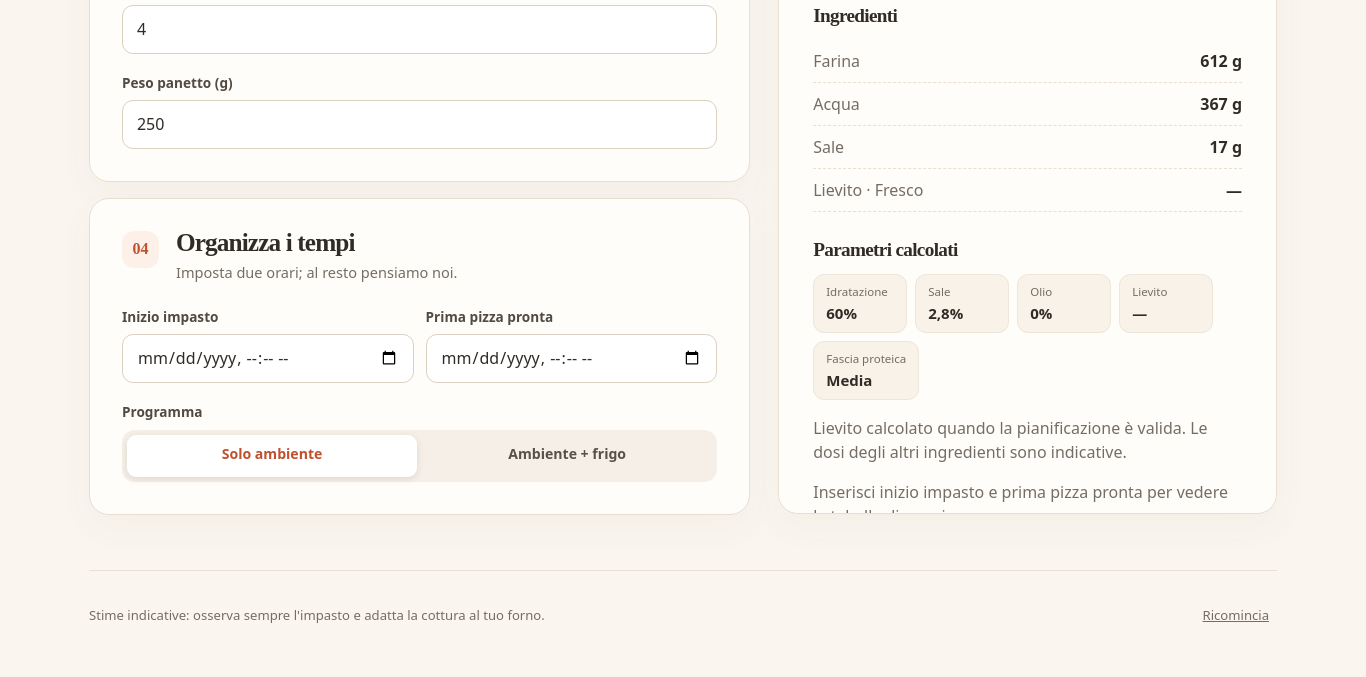
Test case: pizza calculator › shows a timeline only after both dates are entered
(page scrolled)
In the field labelled "Inizio impasto": (268, 358) [122, 334, 414, 383], type "2026-06-15T09:00"
(page scrolled)
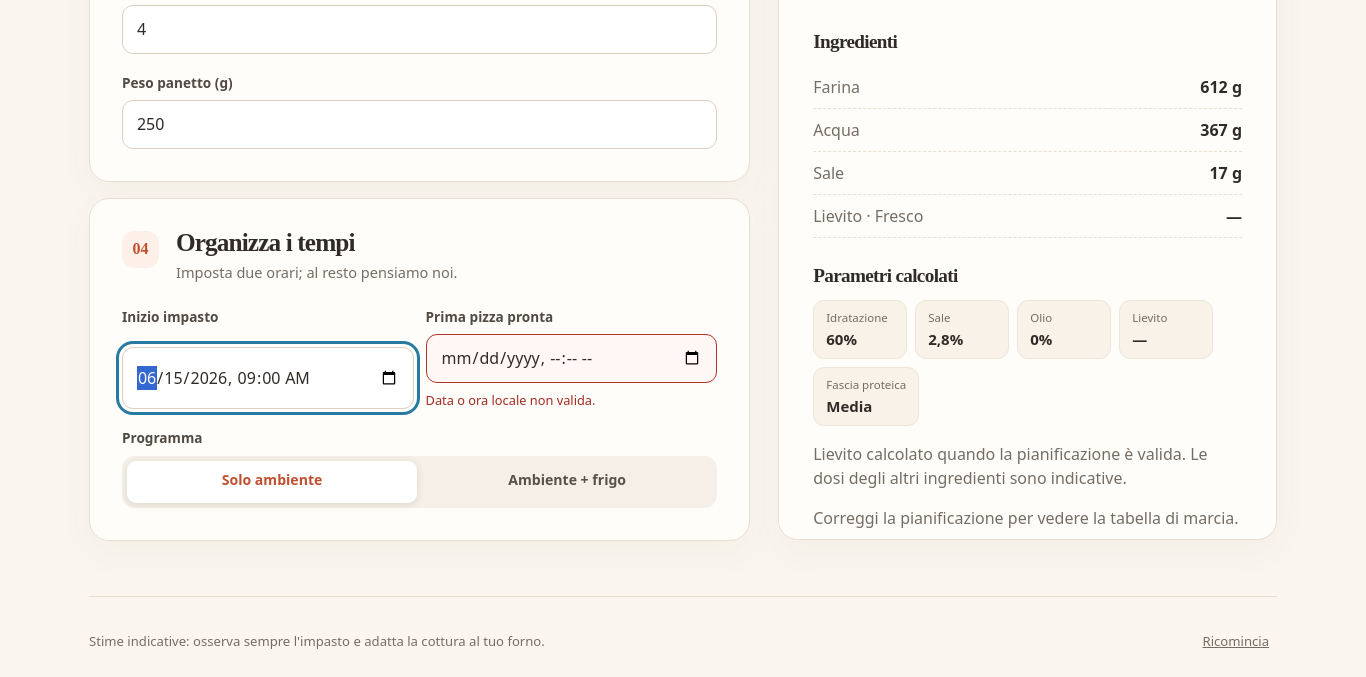
In the field labelled "Prima pizza pronta": (571, 358) [426, 334, 717, 383], type "2026-06-15T19:00"
(page scrolled)
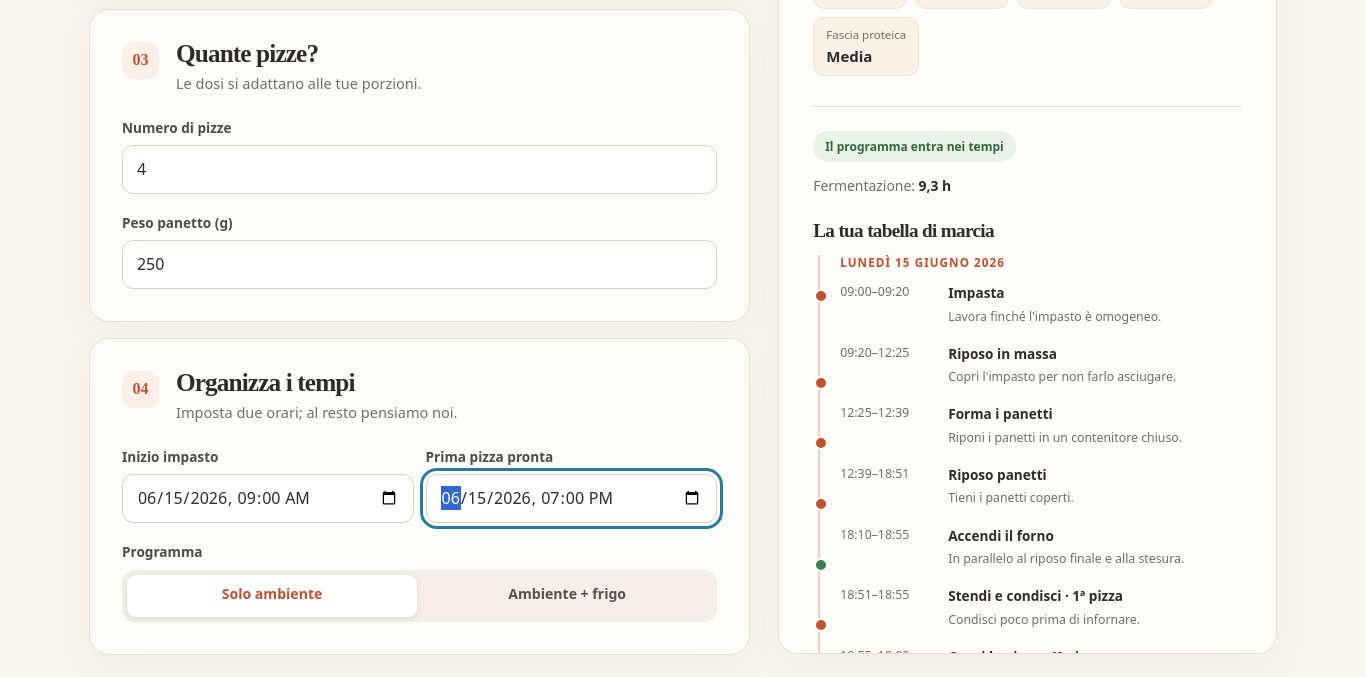
Result: the element with class "timeline" is shown at [813, 220, 1242, 655]
Result: the text "Impasta" is shown at [948, 284, 1004, 302]
